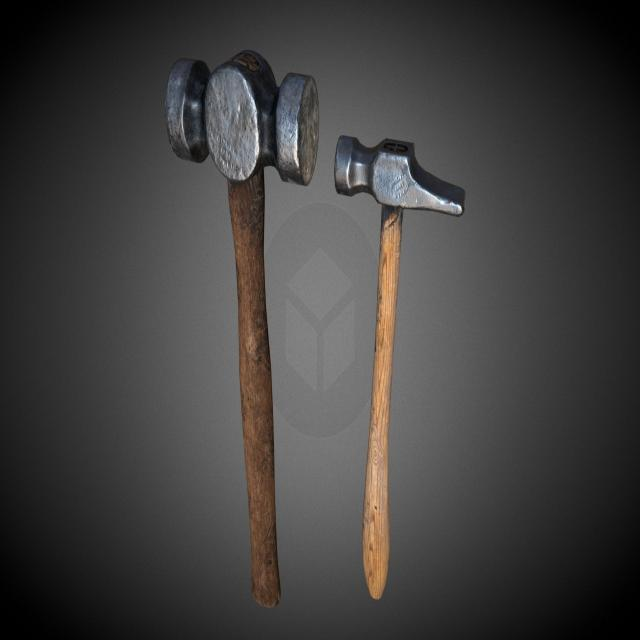hammer: (163, 36, 326, 610), (332, 122, 472, 607)
